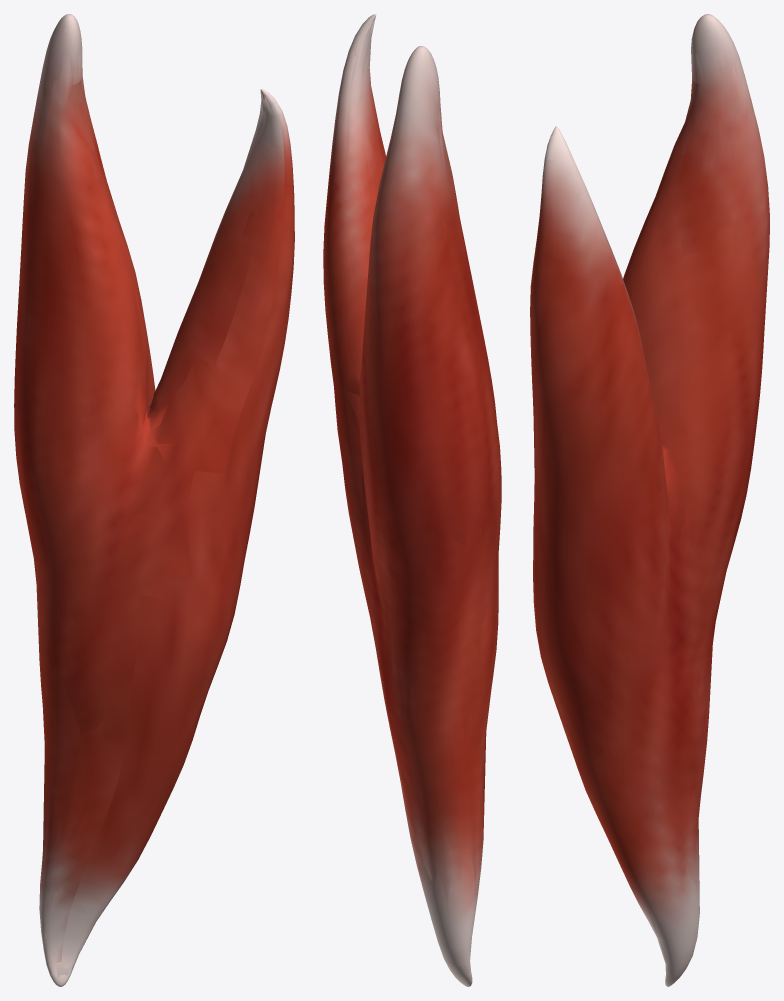
File: R Flexor Carpi Ulnaris.fbx
3 renders of one model, left to right at view 1: azimuth 30°, elevation 25°; view 2: azimuth 150°, elevation 25°; view 3: azimuth 270°, elevation 25°, orthographic. The views are drawn at different scales.
Visible parts, largest first — view 1: R Flexor Carpi Ulnaris, R Flexor Carpi Ulnaris low; view 2: R Flexor Carpi Ulnaris, R Flexor Carpi Ulnaris low; view 3: R Flexor Carpi Ulnaris, R Flexor Carpi Ulnaris low.
Boxes of the visible parts, box(x1,y1,x2,y2) form: R Flexor Carpi Ulnaris: box(14, 14, 294, 986); R Flexor Carpi Ulnaris low: box(14, 22, 293, 977); R Flexor Carpi Ulnaris: box(323, 14, 501, 986); R Flexor Carpi Ulnaris low: box(333, 20, 498, 981); R Flexor Carpi Ulnaris: box(530, 14, 769, 986); R Flexor Carpi Ulnaris low: box(530, 23, 769, 977).
Size of the model in its own units: 9.38 by 41.42 by 9.14.
